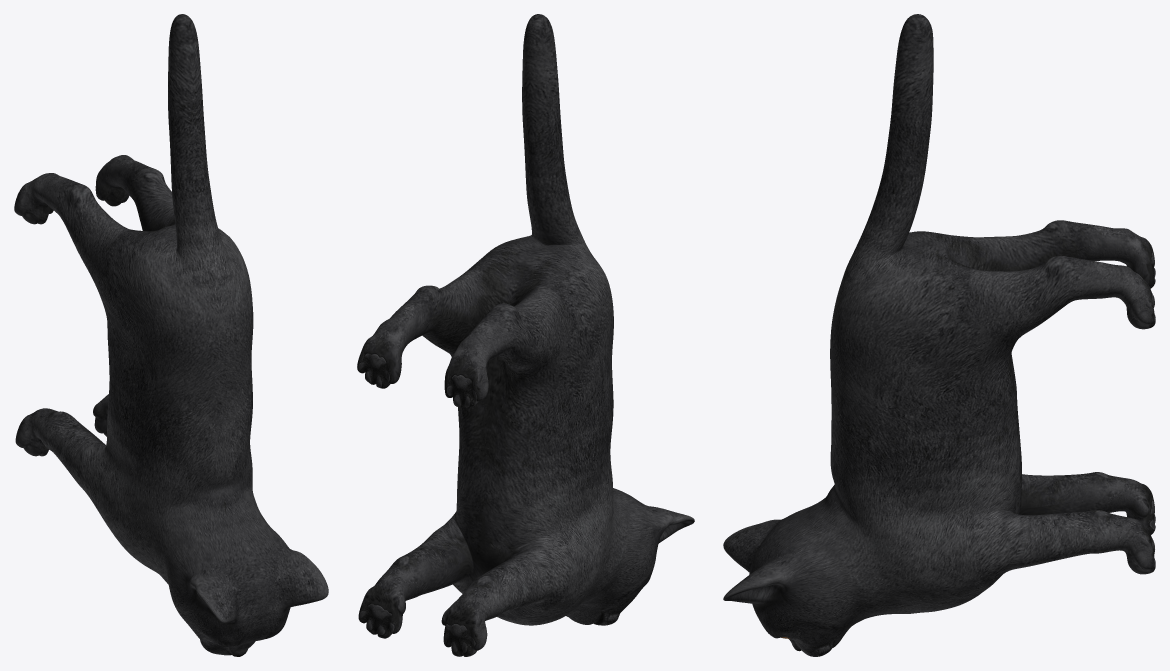
File: Cat.obj
The picture shows the model from 3 angles, left to right: view 1: azimuth 30°, elevation 25°; view 2: azimuth 150°, elevation 25°; view 3: azimuth 270°, elevation 25°; orthographic projection. The views are drawn at different scales.
Parts seen in each view (by area): view 1: Cat; view 2: Cat; view 3: Cat.
Part boxes in pixels (x1,y1,x2,y2): Cat: [14, 14, 328, 656]; Cat: [357, 14, 694, 656]; Cat: [723, 14, 1155, 656].
Bounding box in the file's own units: 12.56 × 61 × 37.58.
Materials: 1 (1 with a texture image).
